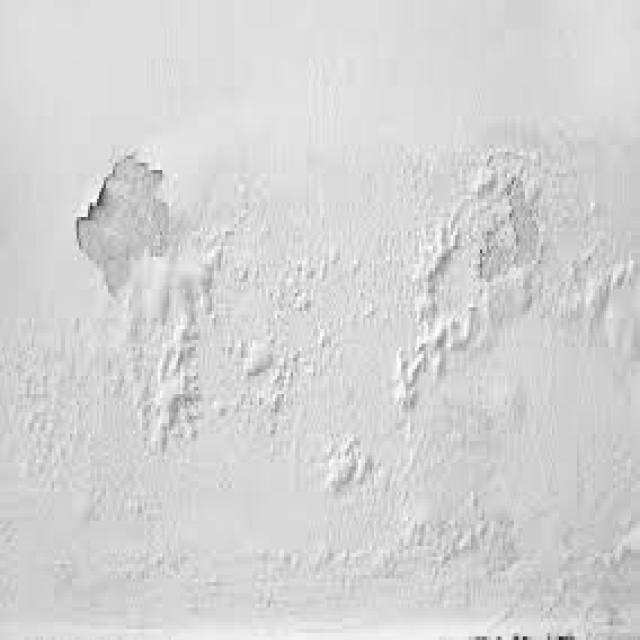peeling paint: (50, 91, 193, 334), (446, 148, 580, 308)
